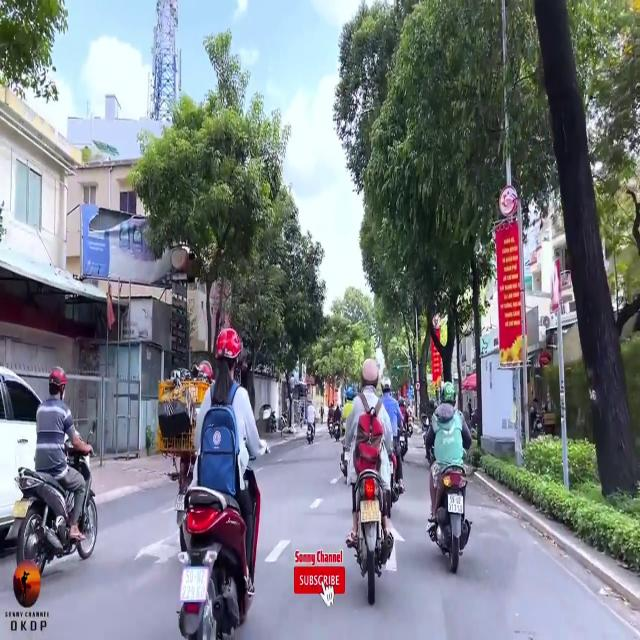bien_trang: (180, 561, 206, 602), (359, 499, 381, 529), (446, 493, 466, 518)
